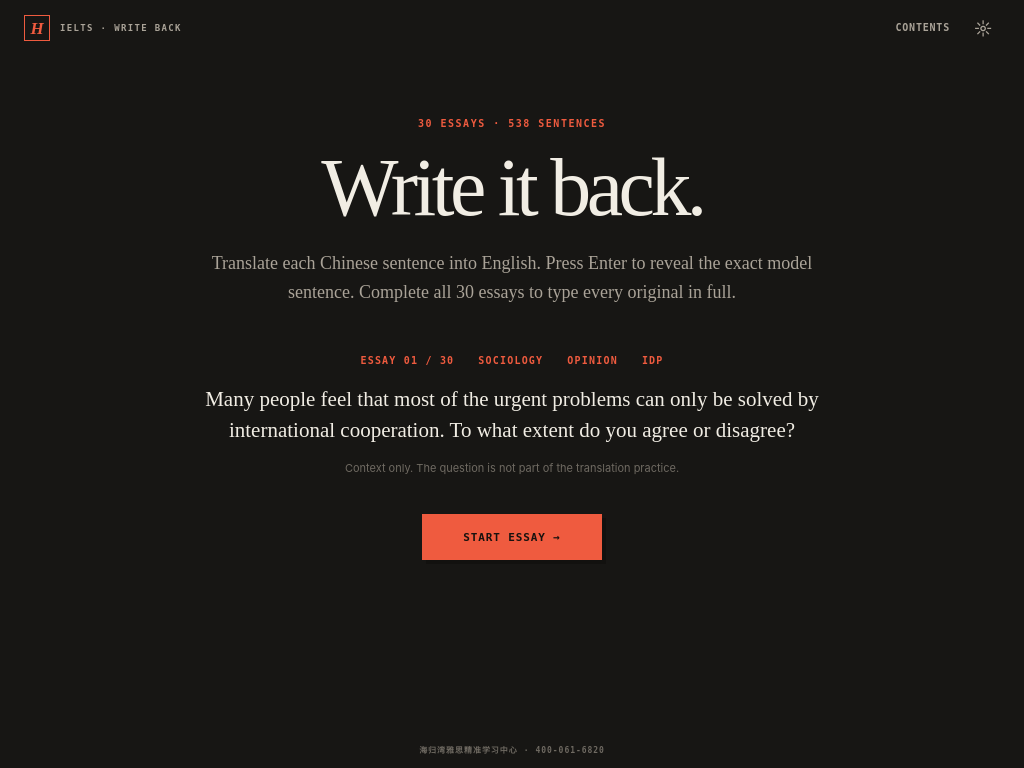
Scenario: translation practice flow › shows all 6 topics, 5 task types, and 30 exact prompts on one Contents page
The image size is (1024, 768).
Click the button "CONTENTS" at point(923, 28), box [895, 9, 950, 47]
(page scrolled)
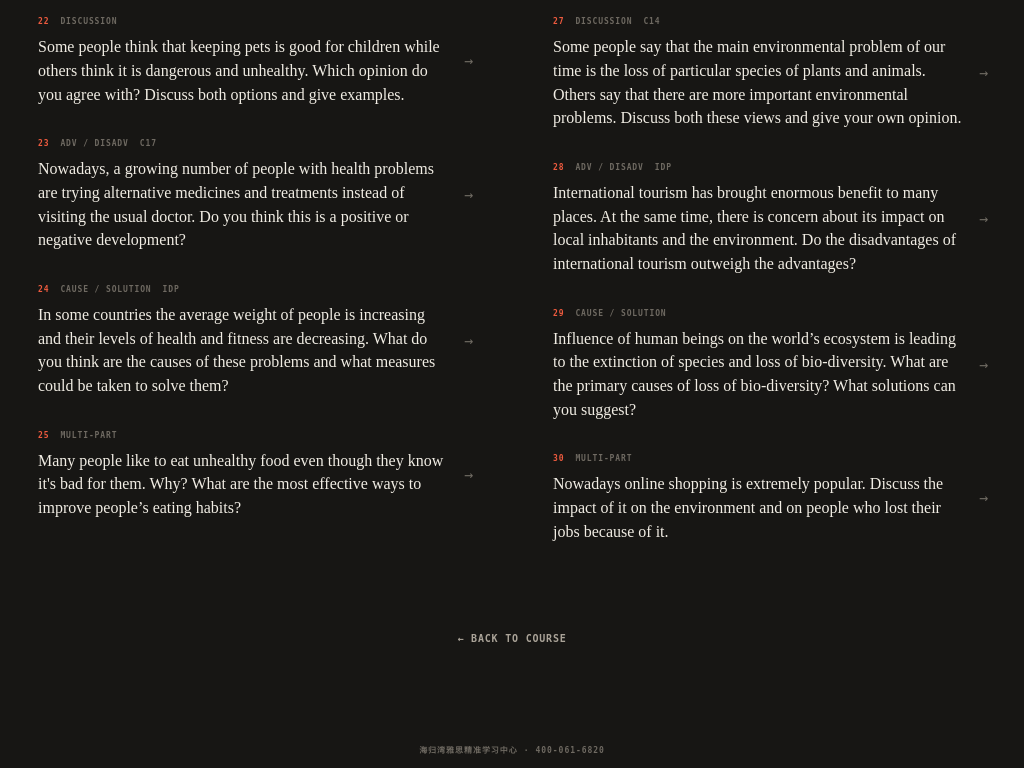
expect the number of elements with class "topic-group" is 6: met
expect the text "DISCUSSION" is shown 6 times: met
expect the text "ADV / DISADV" is shown 6 times: met
